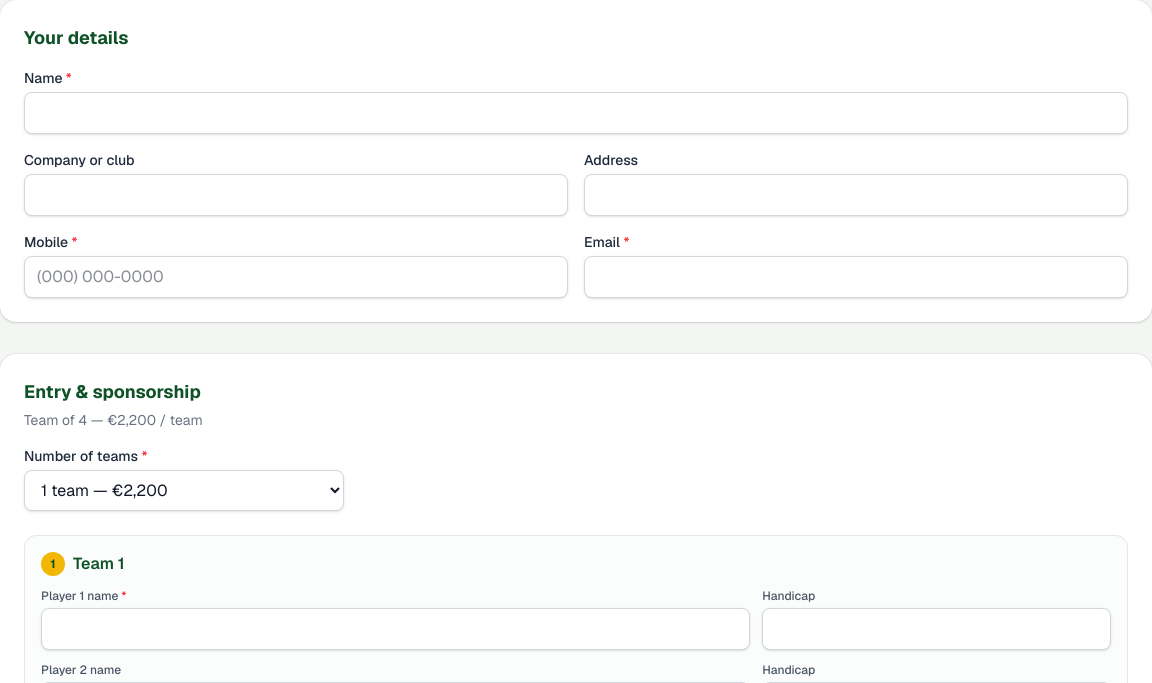
Test: RegistrationForm — the entry itself › asks for no players at all when no team was selected
Step 1. Select "No team — sponsorship or donation only" in the dropdown labelled "Number of teams *" → (184, 490), box [24, 470, 344, 511]
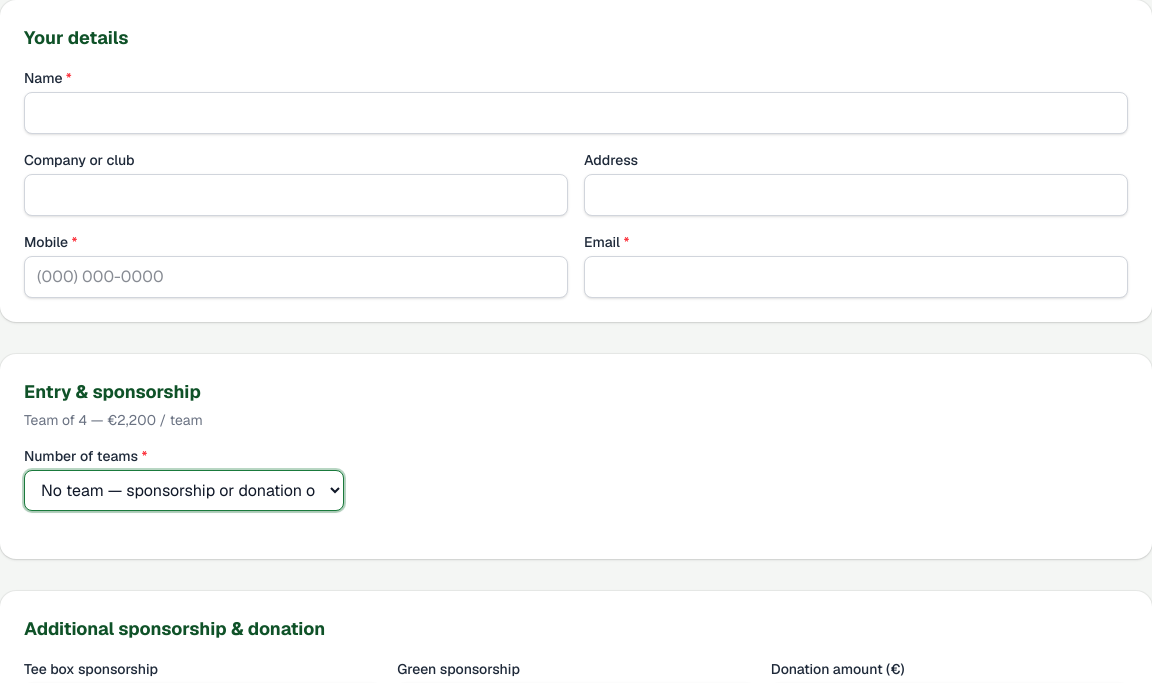
expect the label labelled "Player 1 name" is gone: met
